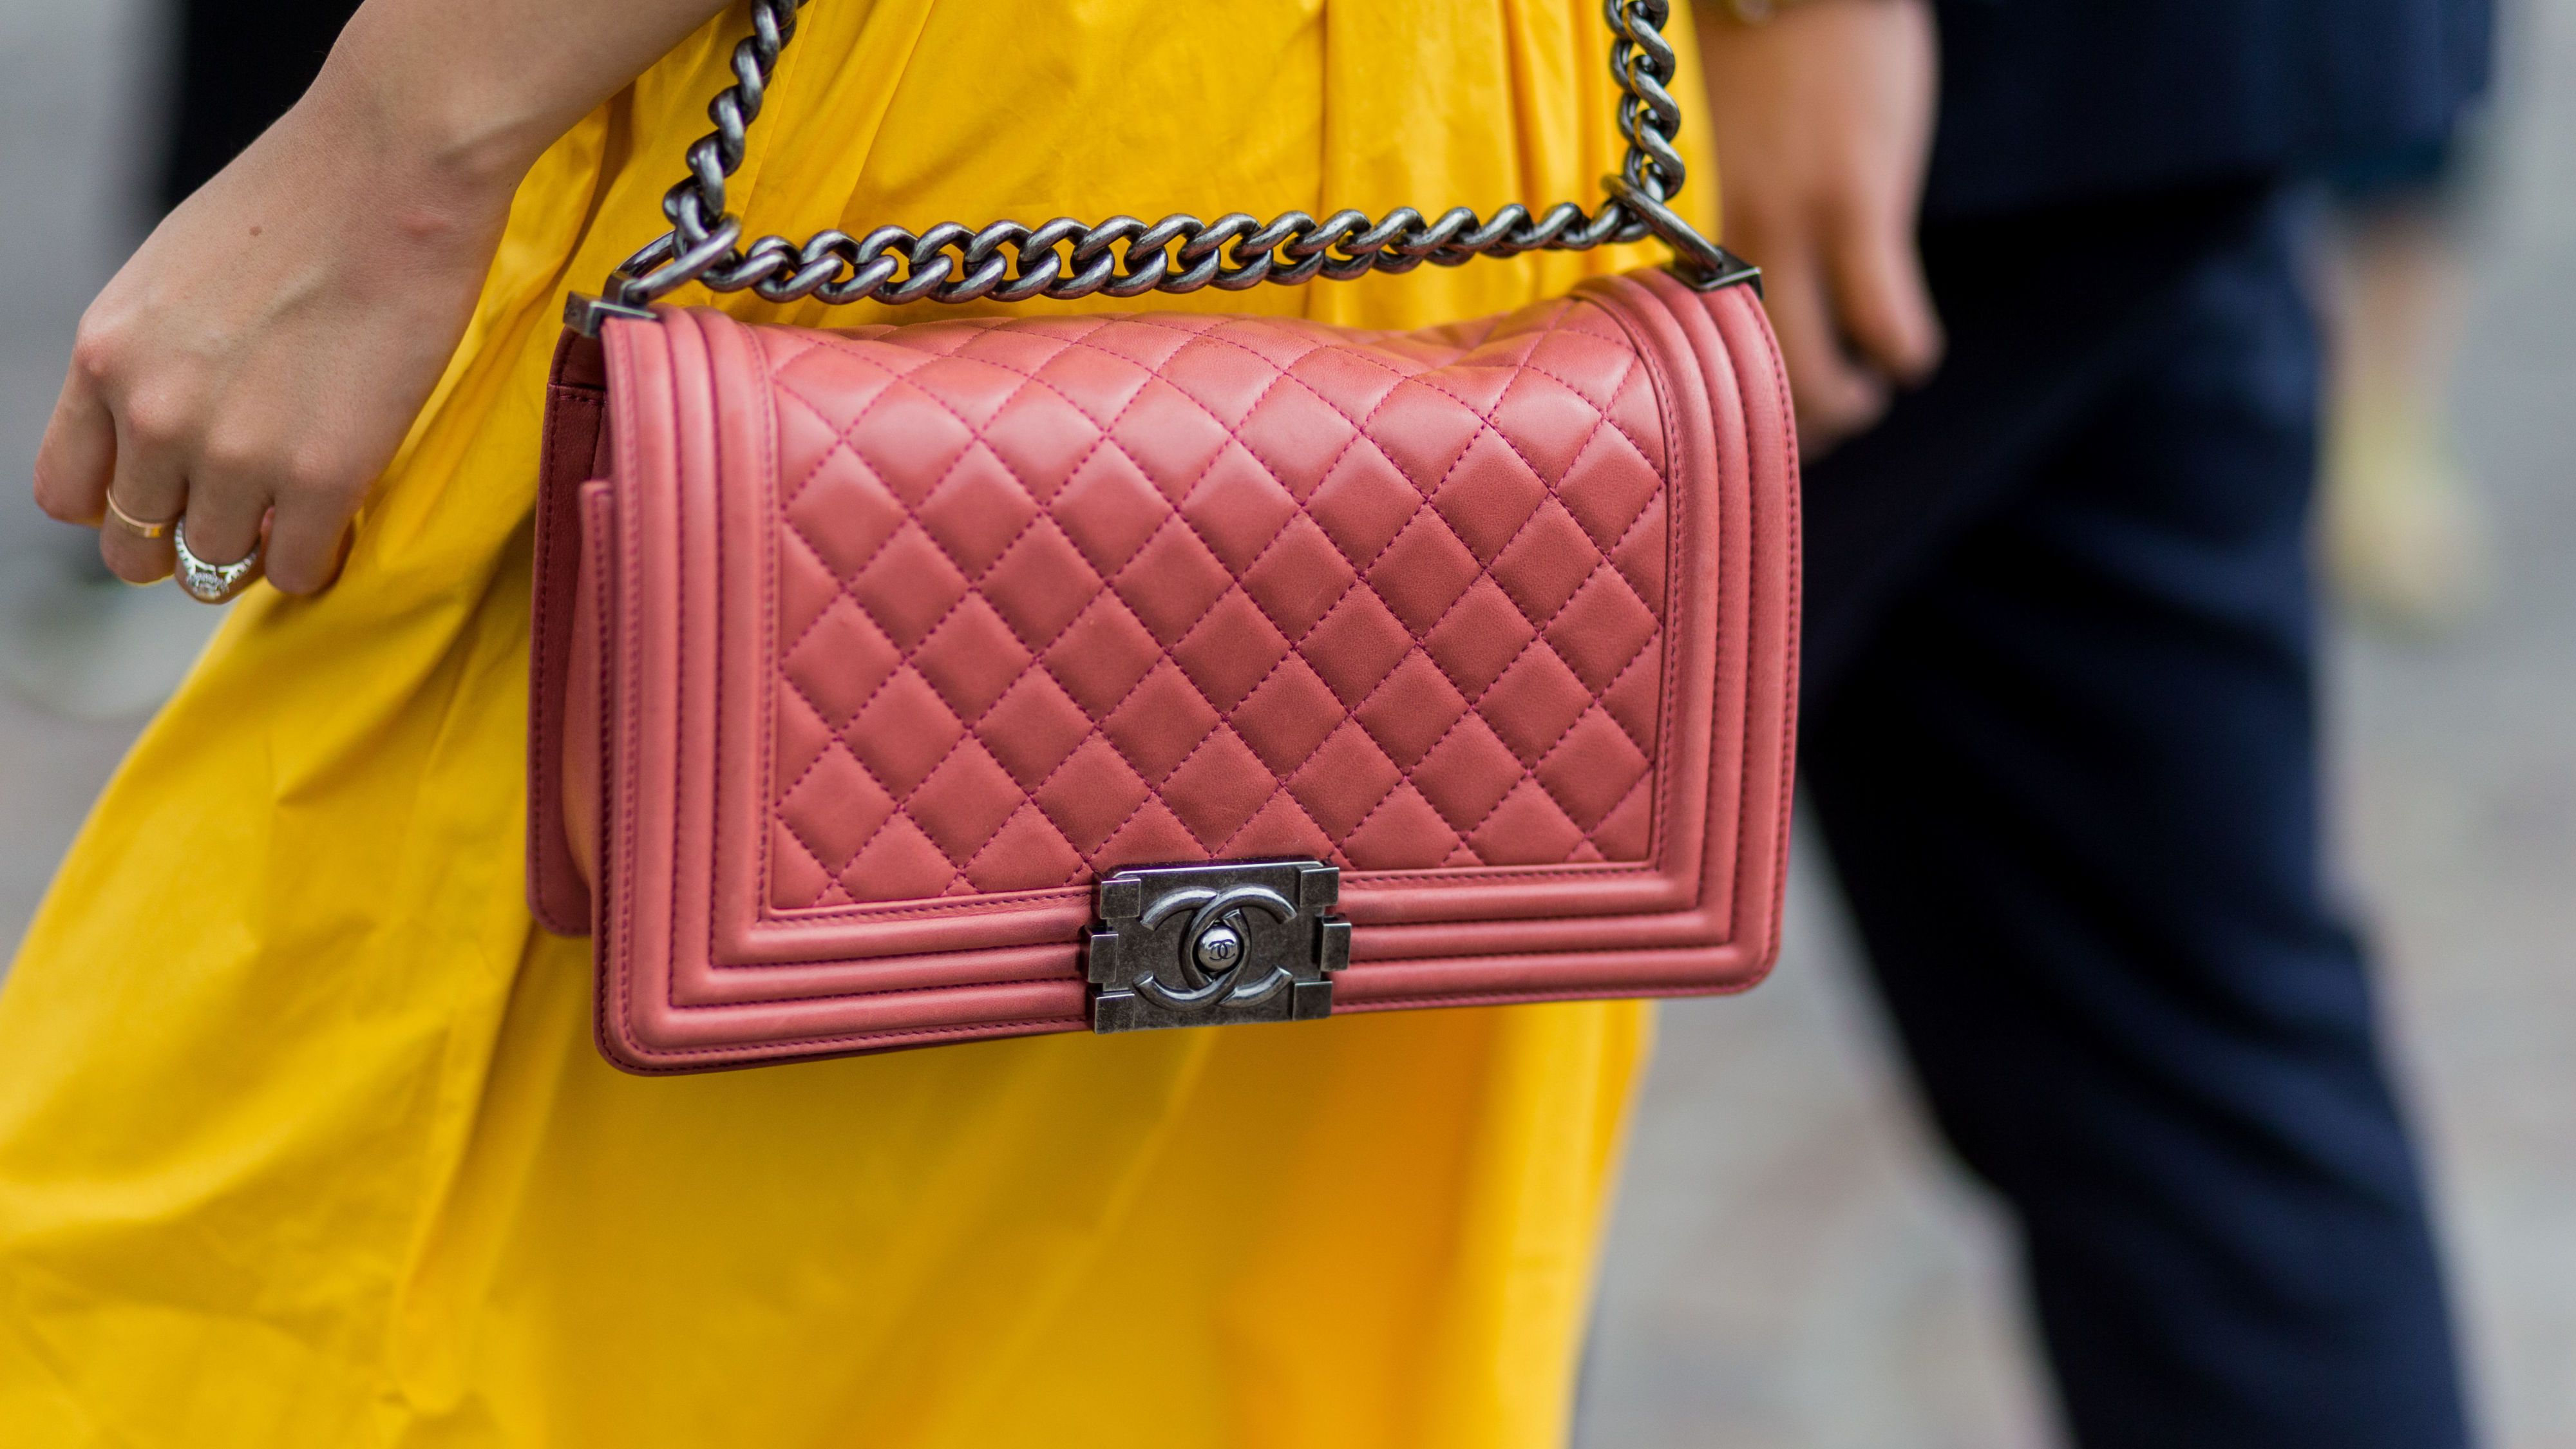channel: (563, 203, 2001, 1116), (778, 303, 1192, 745), (663, 154, 1534, 299), (1079, 862, 1330, 1054)
